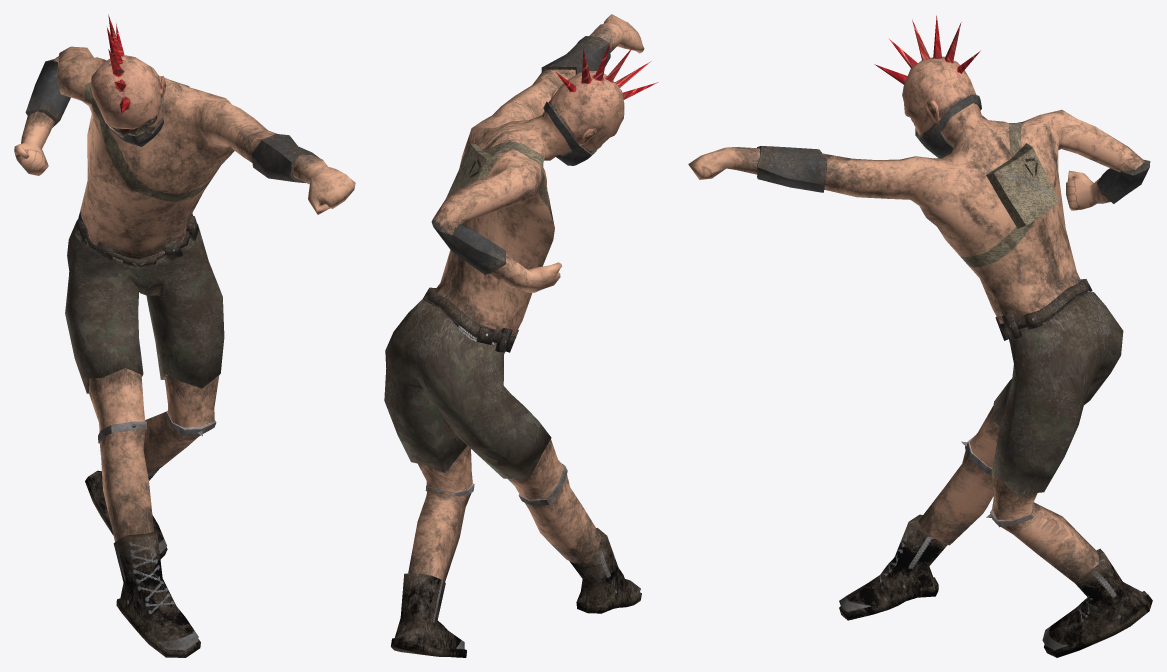
The model's file is Anim_ataque_d3_npc2.0033.obj.
The picture shows the model from 3 angles, left to right: view 1: azimuth 30°, elevation 25°; view 2: azimuth 150°, elevation 25°; view 3: azimuth 270°, elevation 25°; orthographic projection. The views are drawn at different scales.
Parts seen in each view (by area): view 1: polySurface1; view 2: polySurface1; view 3: polySurface1.
Boxes of the visible parts, x1,y1,x2,y2 form: polySurface1: (14,14,355,657); polySurface1: (384,14,658,657); polySurface1: (688,15,1152,657).
Size of the model in its own units: 2.86 by 9.02 by 6.45.
